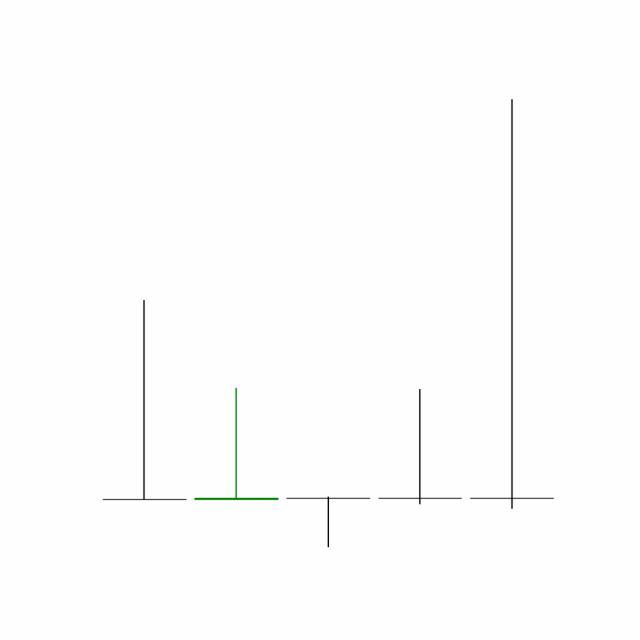Gravestone Doji: (374, 388, 468, 507)
